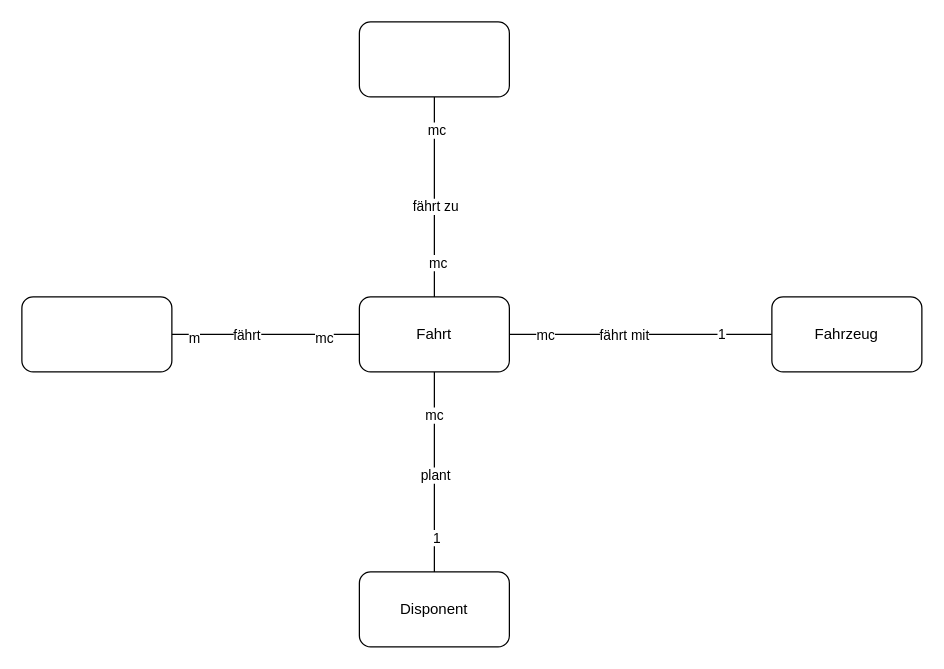
The diagram is 944 pixels wide and 669 high, and some of its shapes have lost their labels. Each missing label, with the centre of its shape:
Fahrer: [96,334]
Ort: [433,59]
